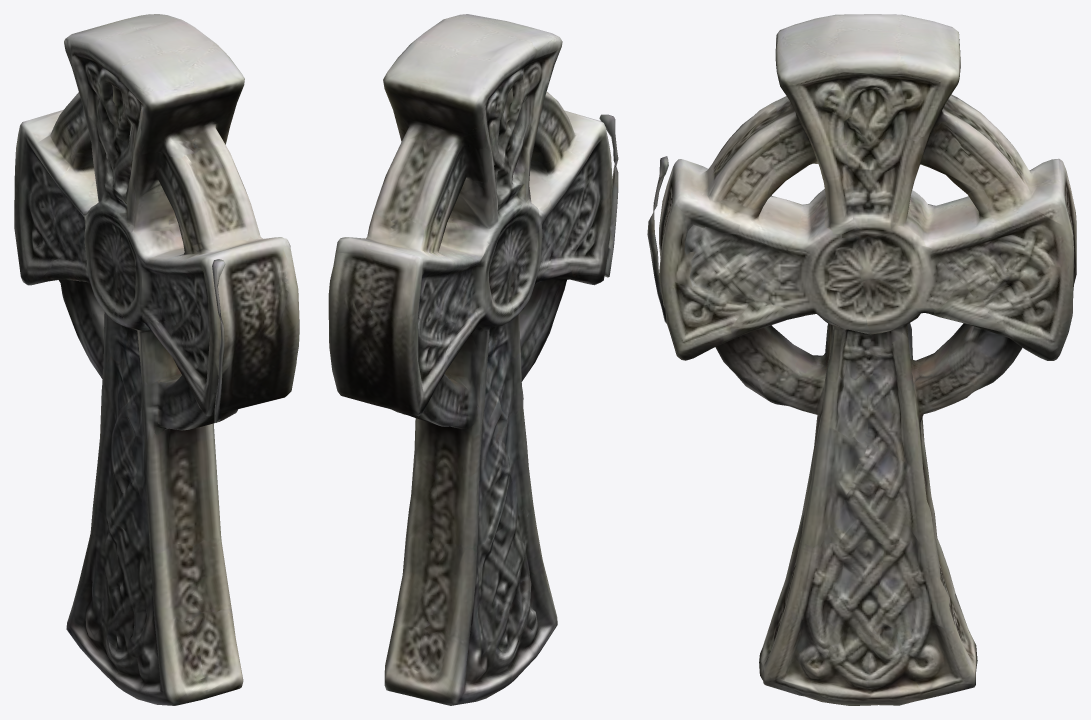
3 renders of one model, left to right at view 1: azimuth 30°, elevation 25°; view 2: azimuth 150°, elevation 25°; view 3: azimuth 270°, elevation 25°, orthographic. The views are drawn at different scales.
Visible parts, largest first — view 1: tripo_node_138033c7-ba15-4924-9105-610cbc9ad77b_0; view 2: tripo_node_138033c7-ba15-4924-9105-610cbc9ad77b_0; view 3: tripo_node_138033c7-ba15-4924-9105-610cbc9ad77b_0.
Part boxes in pixels (left/top/right/bottom): tripo_node_138033c7-ba15-4924-9105-610cbc9ad77b_0: left=14, top=14, right=299, bottom=705; tripo_node_138033c7-ba15-4924-9105-610cbc9ad77b_0: left=328, top=14, right=618, bottom=705; tripo_node_138033c7-ba15-4924-9105-610cbc9ad77b_0: left=647, top=14, right=1076, bottom=705.
Bounding box in the file's own units: 0.1522 × 0.9415 × 0.5539.
1 material, 1 textured.
